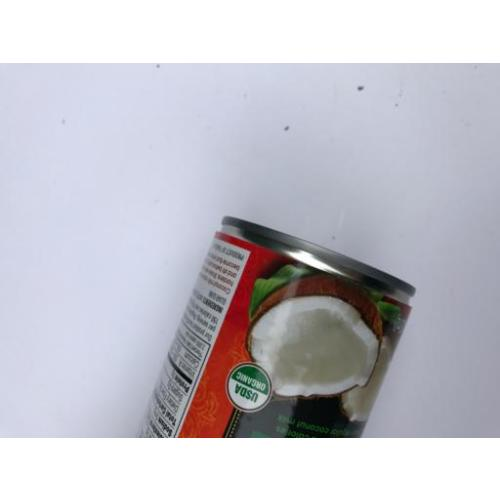metal: (134, 214, 415, 437)
